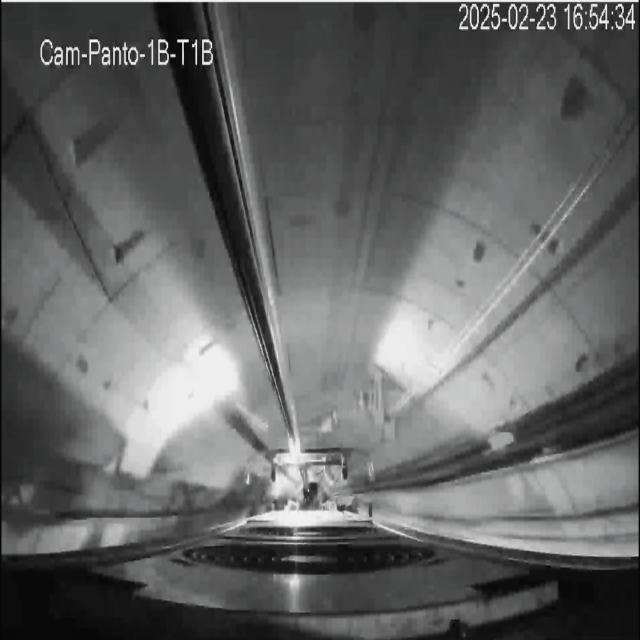Camera Stamp: (41, 35, 219, 69)
Date Stamp: (460, 3, 634, 33)
Sparks: (264, 451, 353, 516), (283, 437, 306, 474)
